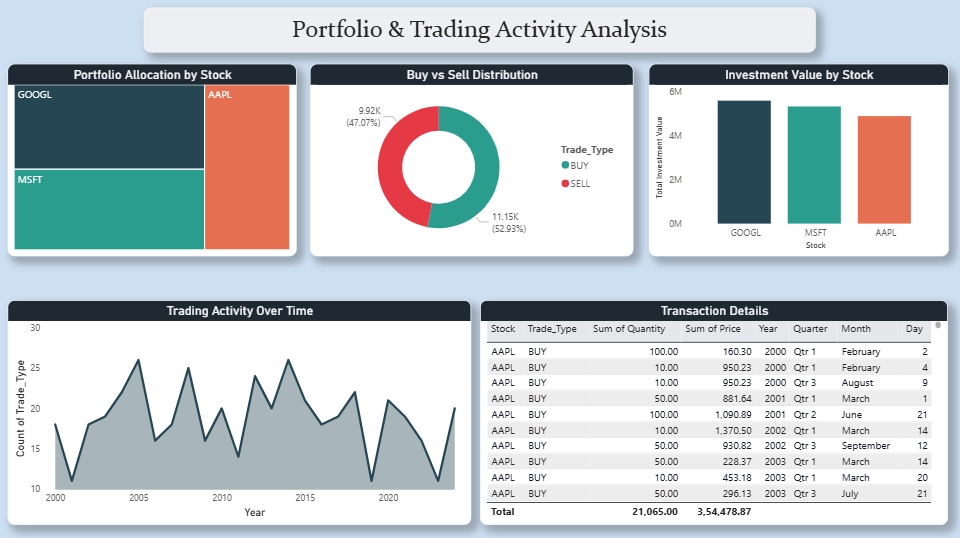

Layout of this report page (visuals, bound fields, positions):
{"tool":"powerbi","page":{"name":"Portfolio & Trading Activity Analysis","canvas":[1280,720],"ordinal":1},"visuals":[{"type":"textbox","box":[191.4,10,895.7,60],"z":0},{"type":"donutChart","title":"Buy vs Sell Distribution","fields":{"Category":["cleaned_transactions.Trade_Type"],"Y":["Sum(cleaned_transactions.Quantity)"]},"box":[412.9,84.3,431.4,257.1],"z":1000},{"type":"columnChart","title":"Investment Value by Stock","fields":{"Category":["cleaned_transactions.Stock"],"Y":["cleaned_transactions.Total Investment Value"]},"box":[864.3,84.3,400,257.1],"z":2000},{"type":"lineChart","title":"Trading Activity Over Time","fields":{"Category":["cleaned_transactions.Trade_Date.Variation.Date Hierarchy.Year"],"Y":["CountNonNull(cleaned_transactions.Trade_Type)"]},"box":[10,400,618.6,300],"z":3000},{"type":"treemap","title":"Portfolio Allocation by Stock","fields":{"Group":["cleaned_transactions.Stock"],"Values":["cleaned_transactions.Total Investment Value"]},"box":[10,84.3,385.7,257.1],"z":4000},{"type":"tableEx","title":"Transaction Details","fields":{"Values":["cleaned_transactions.Stock","cleaned_transactions.Trade_Type","Sum(cleaned_transactions.Quantity)","Sum(cleaned_transactions.Price)","cleaned_transactions.Trade_Date.Variation.Date Hierarchy.Year","cleaned_transactions.Trade_Date.Variation.Date Hierarchy.Quarter","cleaned_transactions.Trade_Date.Variation.Date Hierarchy.Month","cleaned_transactions.Trade_Date.Variation.Date Hierarchy.Day"]},"box":[640,400,624.3,300],"z":5000}]}

Visuals, with their boxes in screenshot pixels (x1, y1, x2, y2), scaled from the page's 1280x720 canvas onto the 960x538 screenshot:
textbox: l=144, t=7, r=815, b=52
"Buy vs Sell Distribution" donutChart: l=310, t=63, r=633, b=255
"Investment Value by Stock" columnChart: l=648, t=63, r=948, b=255
"Trading Activity Over Time" lineChart: l=8, t=299, r=471, b=523
"Portfolio Allocation by Stock" treemap: l=8, t=63, r=297, b=255
"Transaction Details" tableEx: l=480, t=299, r=948, b=523
